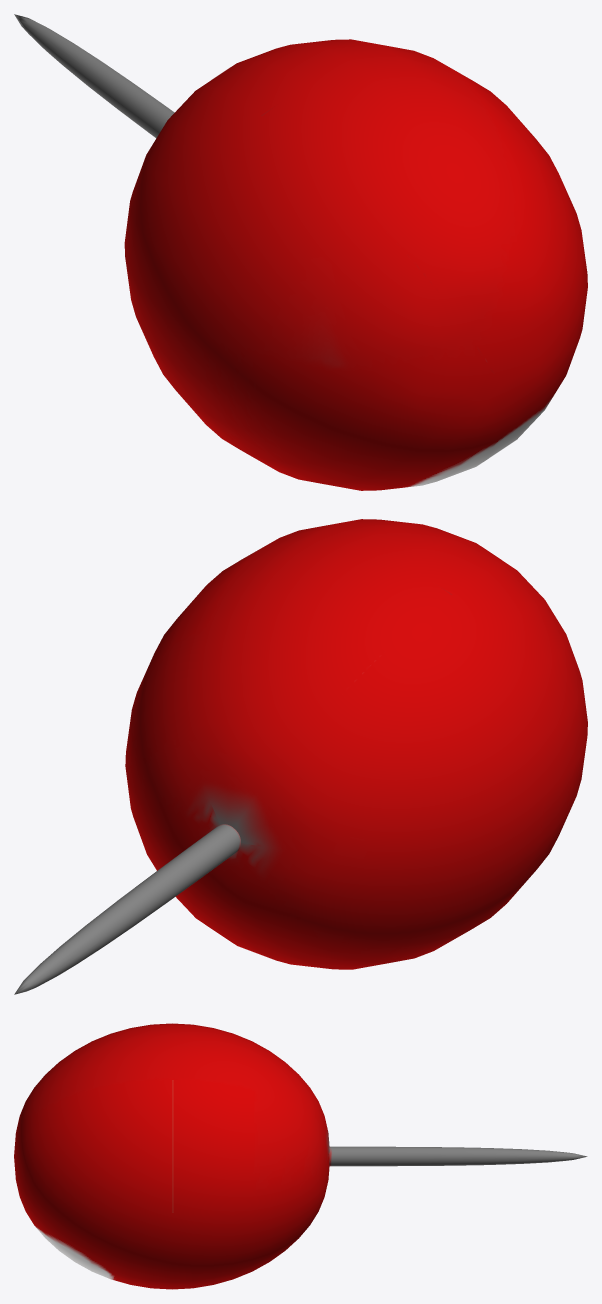
File: pin_new.fbx
3 renders of one model, top to bottom at view 1: azimuth 30°, elevation 25°; view 2: azimuth 150°, elevation 25°; view 3: azimuth 270°, elevation 25°, orthographic. The views are drawn at different scales.
Parts seen in each view (by area): view 1: prp_pin; view 2: prp_pin; view 3: prp_pin.
Part boxes in pixels (x1,y1,x2,y2): prp_pin: (14, 14, 587, 490); prp_pin: (14, 519, 587, 994); prp_pin: (14, 1023, 587, 1289).
Size of the model in its own units: 134 by 133 by 287.
